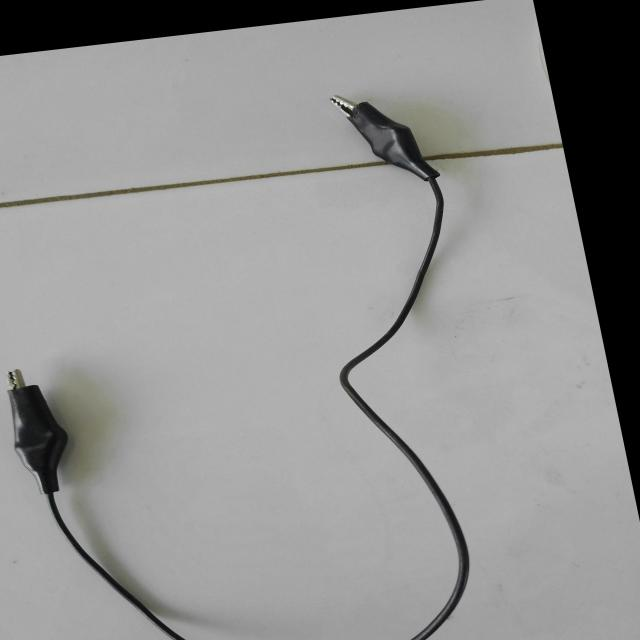BNC Cables Both Clips: (0, 72, 558, 640)
